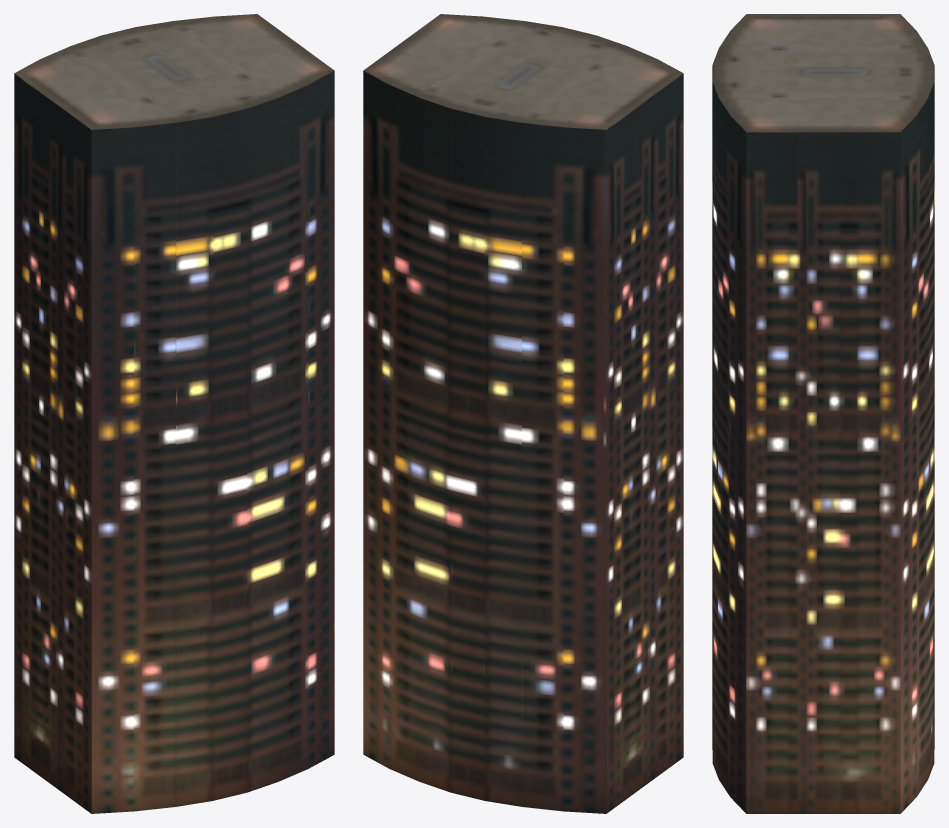
Rendered from background_buildings_1.007_background_buildings_1_0_lev3.glb.
3 views of the same model, side by side, from view 1: azimuth 30°, elevation 25°; view 2: azimuth 150°, elevation 25°; view 3: azimuth 270°, elevation 25° (orthographic).
Visible parts, largest first — view 1: background_buildings_1.007_background_buildings_1_0_lev3; view 2: background_buildings_1.007_background_buildings_1_0_lev3; view 3: background_buildings_1.007_background_buildings_1_0_lev3.
Boxes of the visible parts, left/top/right/bottom form: background_buildings_1.007_background_buildings_1_0_lev3: left=14, top=14, right=334, bottom=813; background_buildings_1.007_background_buildings_1_0_lev3: left=363, top=14, right=683, bottom=813; background_buildings_1.007_background_buildings_1_0_lev3: left=712, top=14, right=934, bottom=813.
Bounding box in the file's own units: 10.03 × 26.97 × 7.96.
Materials: 1 (1 with a texture image).
